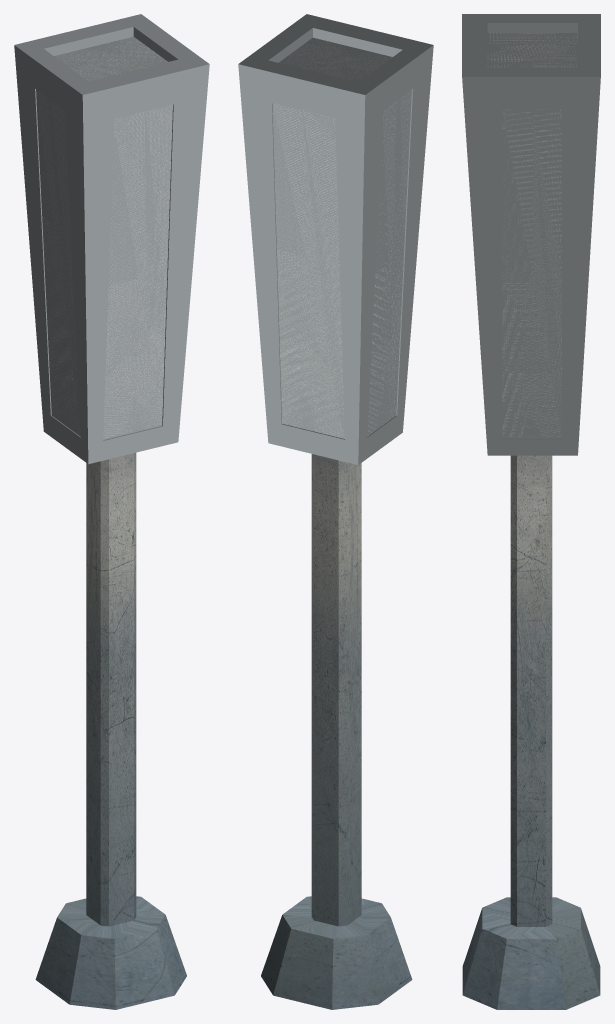
The model's file is Light_3.fbx.
3 views of the same model, side by side, from view 1: azimuth 30°, elevation 25°; view 2: azimuth 150°, elevation 25°; view 3: azimuth 270°, elevation 25° (orthographic).
Visible parts, largest first — view 1: light3; view 2: light3; view 3: light3.
Part boxes in pixels (left/top/right/bottom): light3: left=14, top=14, right=209, bottom=1009; light3: left=238, top=14, right=433, bottom=1009; light3: left=462, top=14, right=600, bottom=1009.
Size of the model in its own units: 28.58 by 199 by 26.7.
